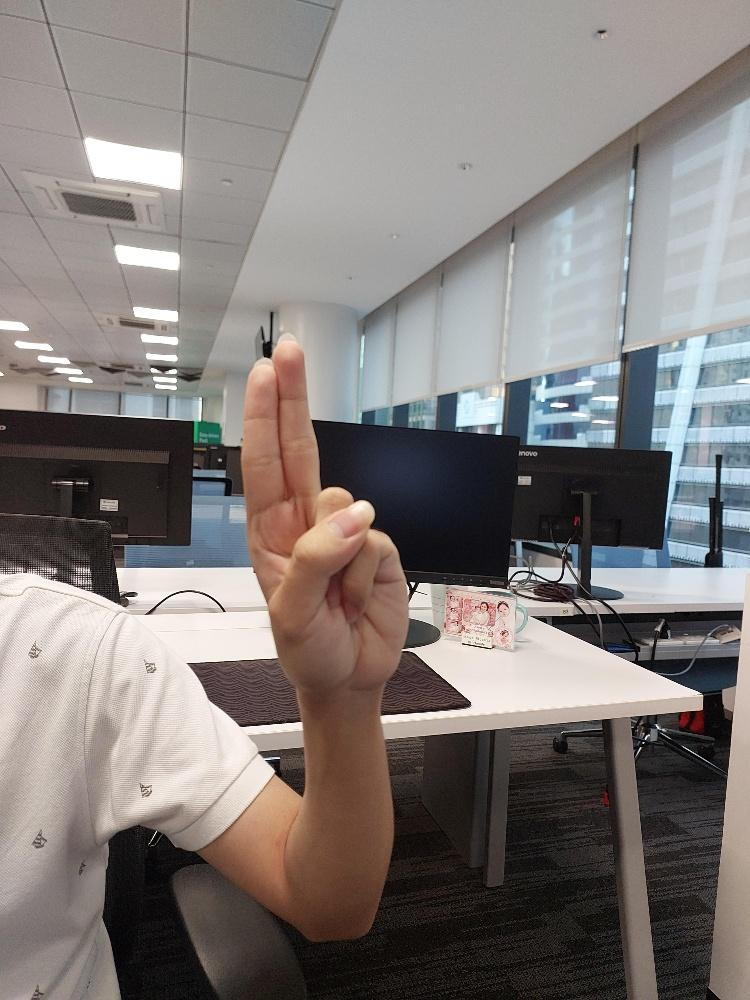u: (236, 329, 409, 696)
